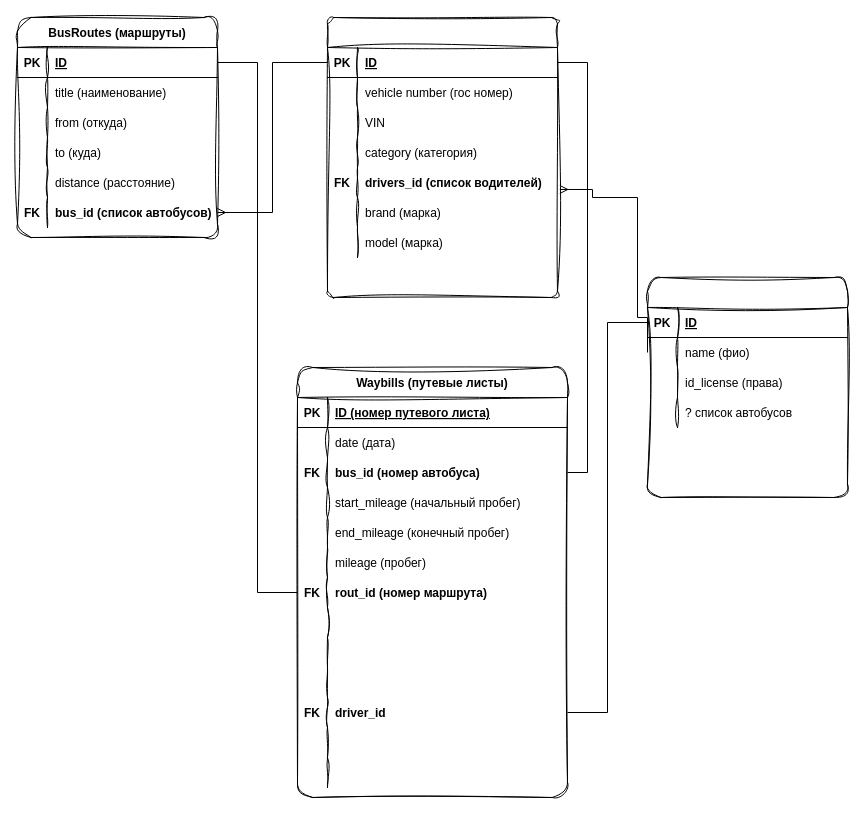
Some shapes in this 865 by 815 pixel diagram are drawn without their labels. The shapes that lost their labels are listed below. From the top down, each one's box as (x1, y1, x2, y2) in pixels, then its label:
(326, 16, 558, 298): Buses (автобусы)
(646, 276, 848, 498): Drivers (водители)
